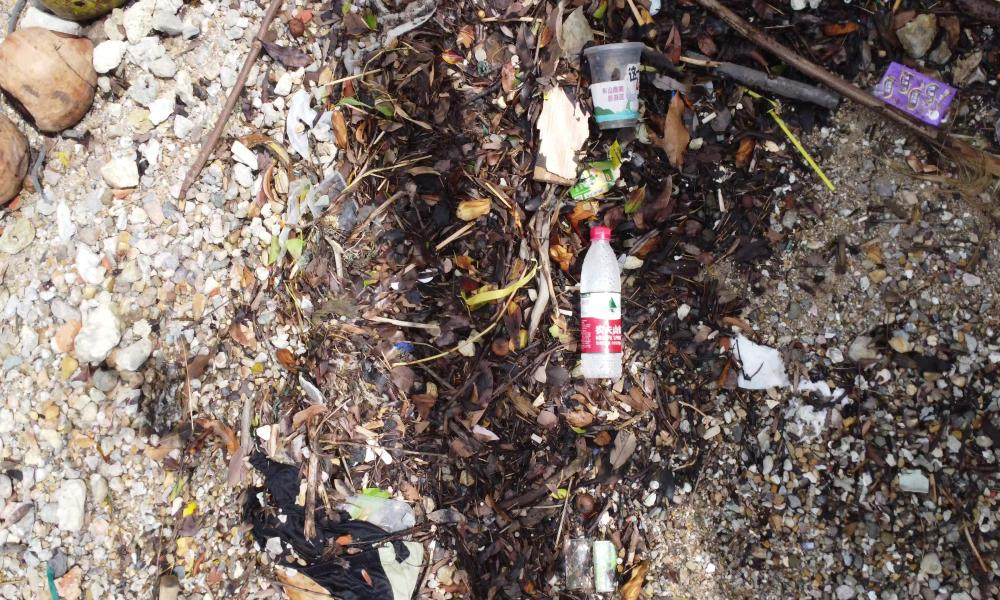carton: (869, 52, 956, 131)
plastic bottle: (572, 204, 636, 391)
plastic container: (578, 24, 652, 152)
